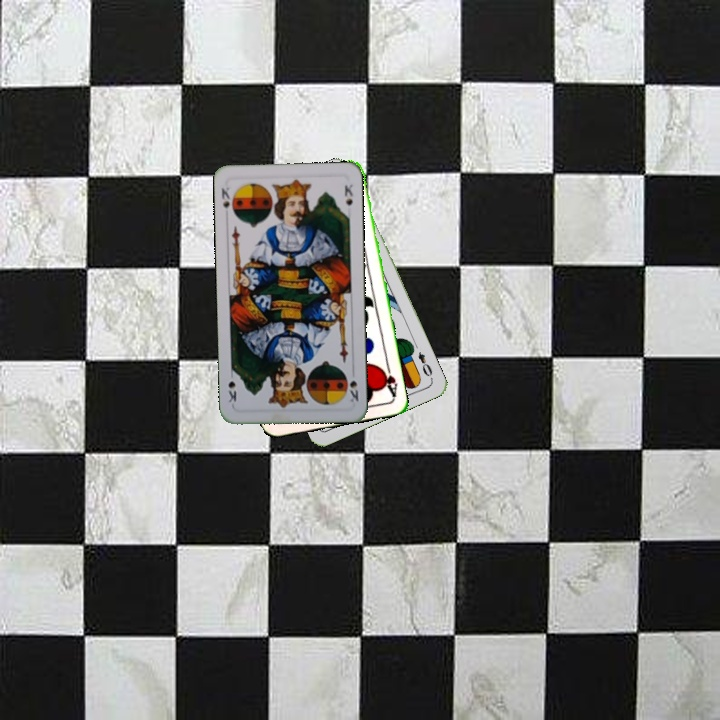EO: (414, 348, 435, 379)
HA: (377, 359, 400, 399)
SK: (345, 365, 361, 405), (217, 183, 232, 211)
